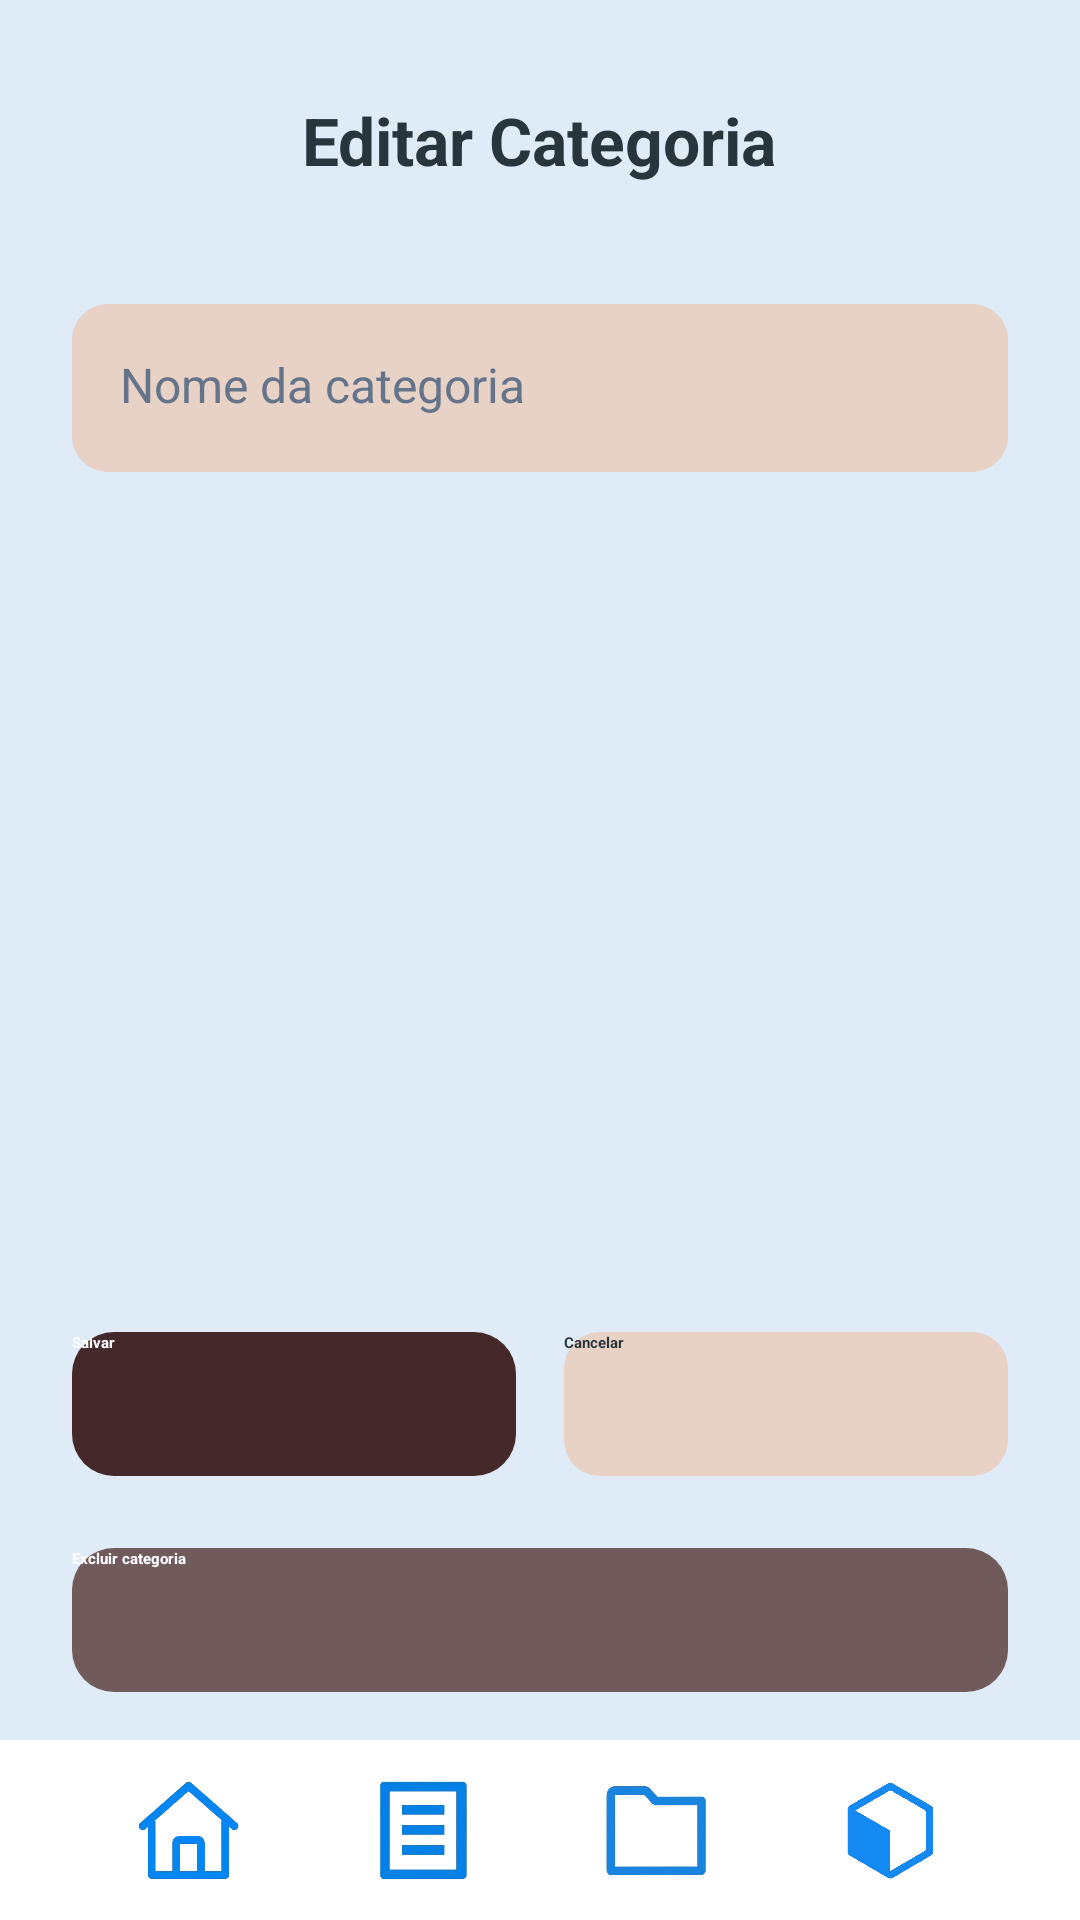

Named icons in this screenshot (1080x1920) and their centers, (x=x, y=y):
caixa: (x=890, y=1831)
home: (x=189, y=1830)
lista: (x=423, y=1830)
pasta: (x=656, y=1830)
